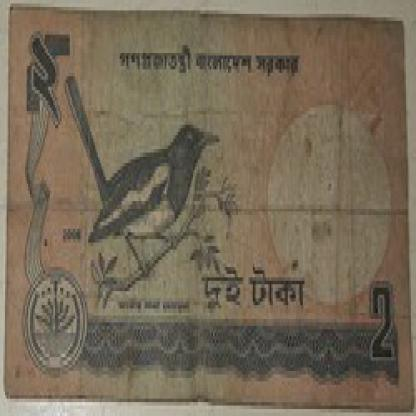two taka: (26, 35, 84, 118), (364, 281, 400, 364)
